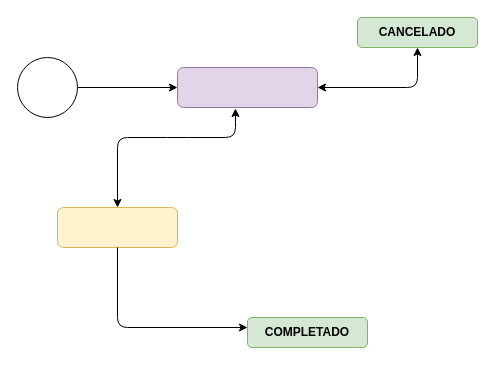
Some shapes in this 495 by 365 pixel diagram are drawn without their labels. Here are the shapes that lost their labels. From the top down, the centre of each, then its label:
At point 247,87: "PENDIENTE".
At point 117,227: "EN CURSO".
